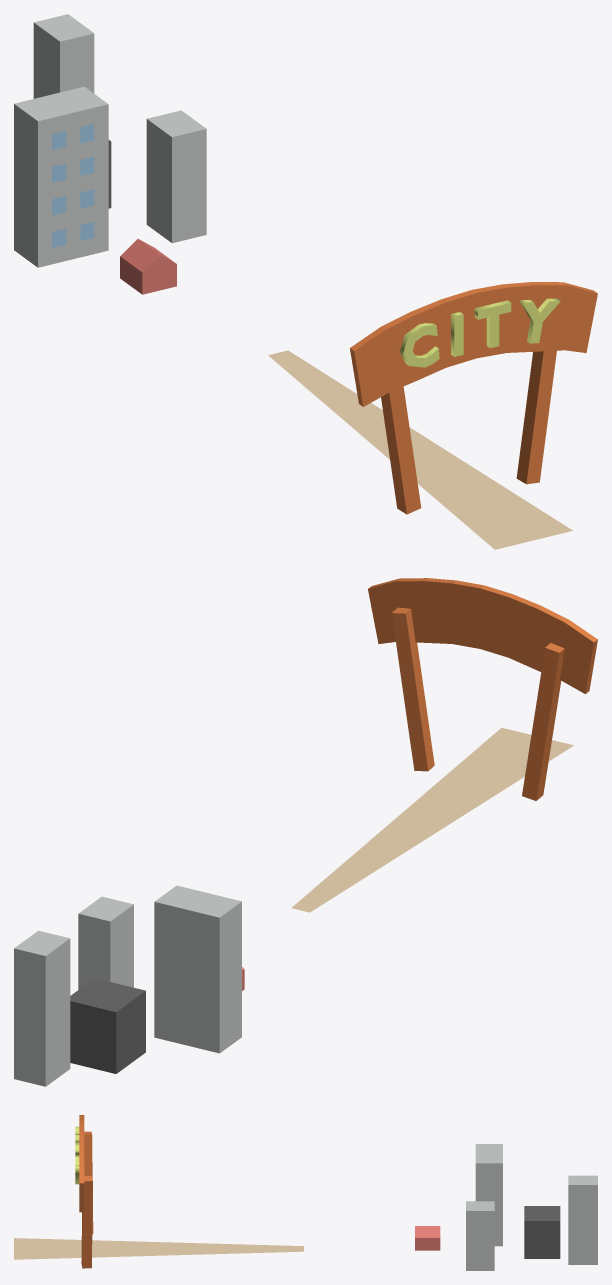
Rendered from city.glb.
3 renders of one model, top to bottom at view 1: azimuth 30°, elevation 25°; view 2: azimuth 150°, elevation 25°; view 3: azimuth 270°, elevation 25°, orthographic. The views are drawn at different scales.
Visible parts, largest first — view 1: Cube, Cube.001, Plane, Text; view 2: Cube, Cube.001, Plane; view 3: Cube, Plane, Cube.001, Text.
Part boxes in pixels (x1,y1,x2,y2): Cube: (14, 14, 206, 294); Cube.001: (350, 282, 597, 514); Plane: (268, 350, 572, 549); Text: (399, 298, 560, 367); Cube: (14, 885, 244, 1086); Cube.001: (368, 578, 597, 800); Plane: (291, 727, 573, 912); Cube: (415, 1144, 597, 1270); Plane: (14, 1238, 303, 1259); Cube.001: (79, 1115, 93, 1268); Text: (75, 1126, 79, 1184).
Size of the model in its own units: 24.11 by 19.81 by 88.31.
